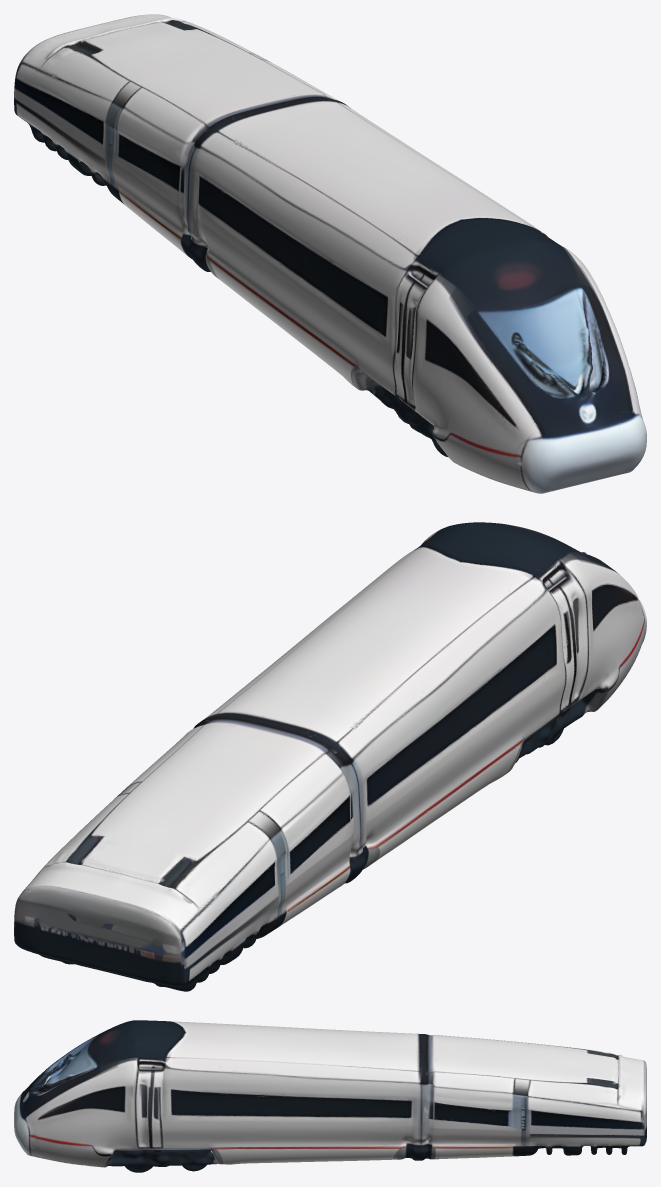
File: train.glb
The picture shows the model from 3 angles, top to bottom: view 1: azimuth 30°, elevation 25°; view 2: azimuth 150°, elevation 25°; view 3: azimuth 270°, elevation 25°; orthographic projection. The views are drawn at different scales.
Parts seen in each view (by area): view 1: texture_v100.001; view 2: texture_v100.001; view 3: texture_v100.001.
Boxes of the visible parts, x1,y1,x2,y2 form: texture_v100.001: (14,14,646,493); texture_v100.001: (14,522,646,991); texture_v100.001: (14,1020,646,1172).
Bounding box in the file's own units: 0.2415 × 0.2588 × 1.18.
1 material, 1 textured.
